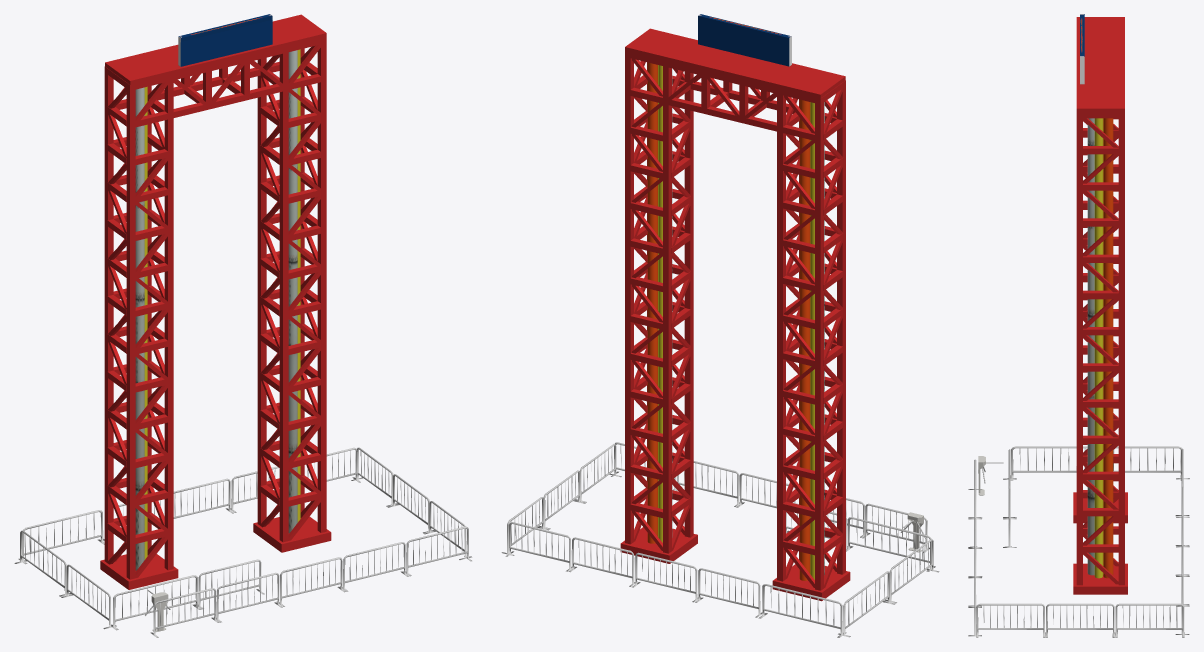
3 renders of one model, left to right at view 1: azimuth 30°, elevation 25°; view 2: azimuth 150°, elevation 25°; view 3: azimuth 270°, elevation 25°, orthographic. The views are drawn at different scales.
Parts seen in each view (by area): view 1: pasted__pCube2 group3, group55 pasted__pasted__pCube2 pasted__group3, pCube2, group55 pasted__pCube2, pasted__pasted__pasted__pasted__pasted__pasted__pasted__pasted__, pasted__pasted__pCube2 pasted__group3 group4, pCube6, group55 pasted__pasted__pasted__pCube2 pasted__pasted__group3 pa, pasted__pCylinder1 group34, group55 pasted__pasted__pCylinder1 pasted__group34, pasted__pCube6 group66, group55 pasted__group31 pasted__group32 pasted__pasted__pasted__ (+29 smaller); view 2: group55 pasted__group29 pasted__group30 pasted__pasted__pasted__, pCube6, pasted__pasted__pCube2 pasted__group3 group4, group55 pasted__pasted__pasted__pCube2 pasted__pasted__group3 pa, pasted__pasted__pasted__pCube2 pasted__pasted__group3 pasted__gr, group55 pasted__pasted__pasted__pasted__pCube2 pasted__pasted__p, pasted__pasted__pCylinder1 pasted__group34 group35, pasted__pCube2 group3, group55 pasted__pasted__pCube2 pasted__group3, group55 pasted__pasted__pasted__pCylinder1 pasted__pasted__group, pasted__pCube6 group66, group60 pasted__pasted__pasted__pasted__pasted__pasted__pasted__ (+25 smaller); view 3: group55 pasted__group31 pasted__group32 pasted__pasted__pasted__, pCube6, group55 pasted__pCube2, group55 pasted__pasted__pasted__pasted__pCube2 pasted__pasted__p, group55 pasted__pasted__pasted__pCylinder1 pasted__pasted__group, group55 pasted__pCylinder1, group55 pasted__pasted__pCylinder1 pasted__group34, pasted__pCube1 group55, group55 pasted__group18 pasted__pasted__pasted__pasted__pasted__, barrier10:Mesh pasted__pasted__pasted__pasted__group69 pasted__p, barrier8:Mesh pasted__pasted__pasted__group69 pasted__pasted__gr, barrier9:Mesh pasted__pasted__pasted__pasted__group69 pasted__pa (+5 smaller).
Boxes of the visible parts, x1,y1,x2,y2 form: pasted__pCube2 group3: (126, 83, 135, 579); group55 pasted__pasted__pCube2 pasted__group3: (279, 47, 288, 542); pCube2: (164, 74, 173, 570); group55 pasted__pCube2: (317, 37, 326, 532); pasted__pasted__pasted__pasted__pasted__pasted__pasted__pasted__: (132, 38, 323, 202); pasted__pasted__pCube2 pasted__group3 group4: (104, 66, 113, 562); pCube6: (105, 14, 326, 85); group55 pasted__pasted__pasted__pCube2 pasted__pasted__group3 pa: (257, 57, 266, 525); pasted__pCylinder1 group34: (135, 87, 144, 570); group55 pasted__pasted__pCylinder1 pasted__group34: (288, 50, 297, 533); pasted__pCube6 group66: (178, 14, 272, 66); group55 pasted__group31 pasted__group32 pasted__pasted__pasted__: (300, 46, 317, 517); group55 pasted__group29 pasted__group30 pasted__pasted__pasted__: (630, 58, 663, 550); pCube6: (625, 28, 845, 98); pasted__pasted__pCube2 pasted__group3 group4: (815, 96, 823, 590); group55 pasted__pasted__pasted__pCube2 pasted__pasted__group3 pa: (663, 61, 671, 553); pasted__pasted__pasted__pCube2 pasted__pasted__group3 pasted__gr: (777, 88, 785, 581); group55 pasted__pasted__pasted__pasted__pCube2 pasted__pasted__p: (625, 51, 633, 544); pasted__pasted__pCylinder1 pasted__group34 group35: (799, 99, 810, 580); pasted__pCube2 group3: (837, 80, 845, 574); group55 pasted__pasted__pCube2 pasted__group3: (684, 71, 693, 537); group55 pasted__pasted__pasted__pCylinder1 pasted__pasted__group: (647, 62, 657, 543); pasted__pCube6 group66: (698, 14, 791, 66); group60 pasted__pasted__pasted__pasted__pasted__pasted__pasted__: (630, 53, 817, 140); group55 pasted__group31 pasted__group32 pasted__pasted__pasted__: (1082, 112, 1119, 584); pCube6: (1076, 17, 1124, 112); group55 pasted__pCube2: (1076, 112, 1082, 585); group55 pasted__pasted__pasted__pasted__pCube2 pasted__pasted__p: (1118, 112, 1124, 585); group55 pasted__pasted__pasted__pCylinder1 pasted__pasted__group: (1103, 118, 1113, 578); group55 pasted__pCylinder1: (1094, 118, 1102, 578); group55 pasted__pasted__pCylinder1 pasted__group34: (1087, 118, 1094, 575); pasted__pCube1 group55: (1073, 563, 1127, 594); group55 pasted__group18 pasted__pasted__pasted__pasted__pasted__: (1083, 128, 1118, 425); barrier10:Mesh pasted__pasted__pasted__pasted__group69 pasted__p: (1115, 603, 1184, 637); barrier8:Mesh pasted__pasted__pasted__group69 pasted__pasted__gr: (976, 603, 1045, 637); barrier9:Mesh pasted__pasted__pasted__pasted__group69 pasted__pa: (1045, 603, 1114, 637).
Size of the model in its own units: 18.36 by 26.95 by 10.53.
